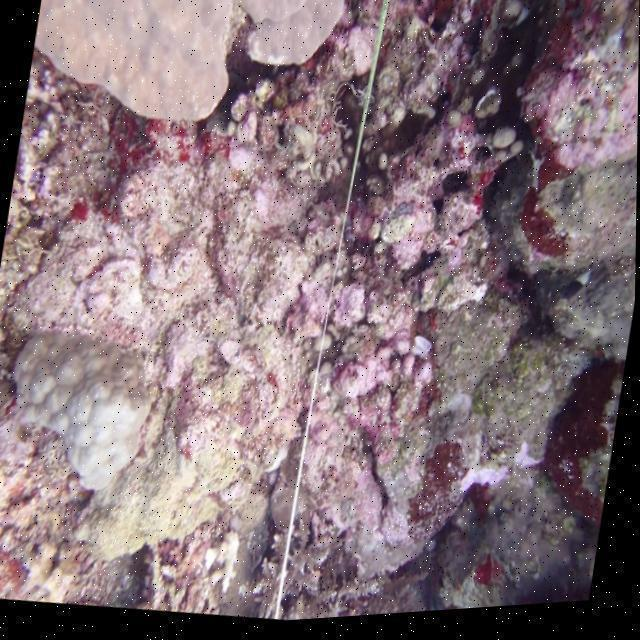Bleached Coral: (4, 391, 165, 502), (201, 528, 246, 599)
